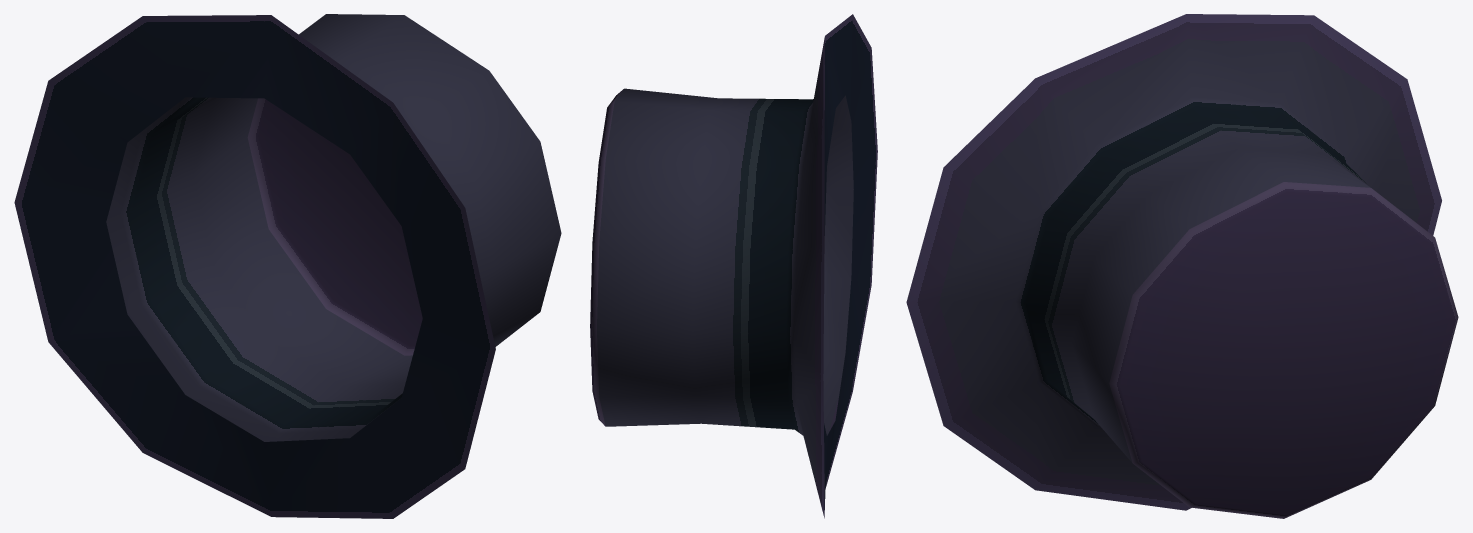
File: cap_hat_top.dae
3 renders of one model, left to right at view 1: azimuth 30°, elevation 25°; view 2: azimuth 150°, elevation 25°; view 3: azimuth 270°, elevation 25°, orthographic. The views are drawn at different scales.
Parts seen in each view (by area): view 1: cap_hat_top; view 2: cap_hat_top; view 3: cap_hat_top.
Boxes of the visible parts, left/top/right/bottom form: cap_hat_top: left=14, top=14, right=561, bottom=518; cap_hat_top: left=590, top=14, right=877, bottom=518; cap_hat_top: left=906, top=14, right=1458, bottom=518.
Bounding box in the file's own units: 24.63 × 30.89 × 31.12.
1 material, 1 textured.
